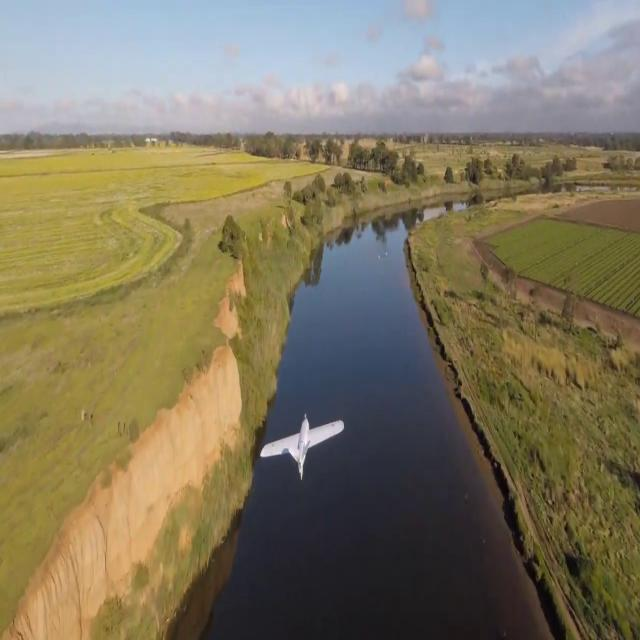iha: (292, 417, 313, 474)
